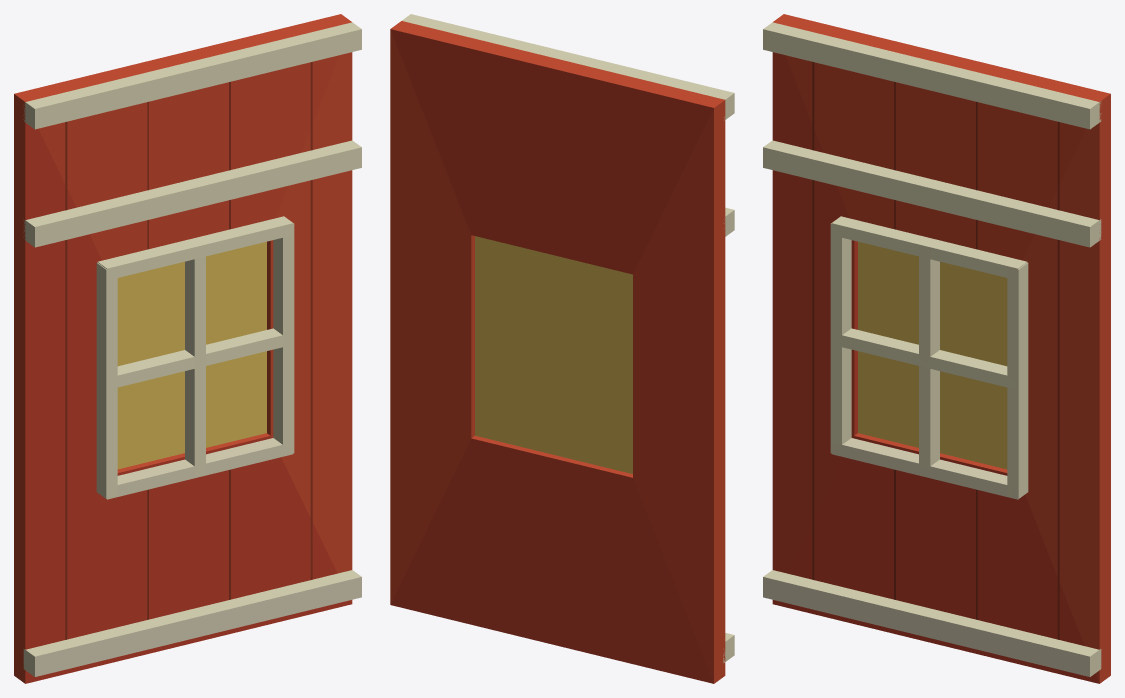
File: N01_WindowWall_2m.fbx
3 renders of one model, left to right at view 1: azimuth 30°, elevation 25°; view 2: azimuth 150°, elevation 25°; view 3: azimuth 330°, elevation 25°, orthographic.
Parts seen in each view (by area): view 1: N01_WindowWall_2m.025; view 2: N01_WindowWall_2m.025; view 3: N01_WindowWall_2m.025.
Part boxes in pixels (<box>): N01_WindowWall_2m.025: <box>14,14,361,683</box>; N01_WindowWall_2m.025: <box>390,14,734,683</box>; N01_WindowWall_2m.025: <box>763,14,1110,683</box>.
Bounding box in the file's own units: 2 × 3.4 × 0.24.
